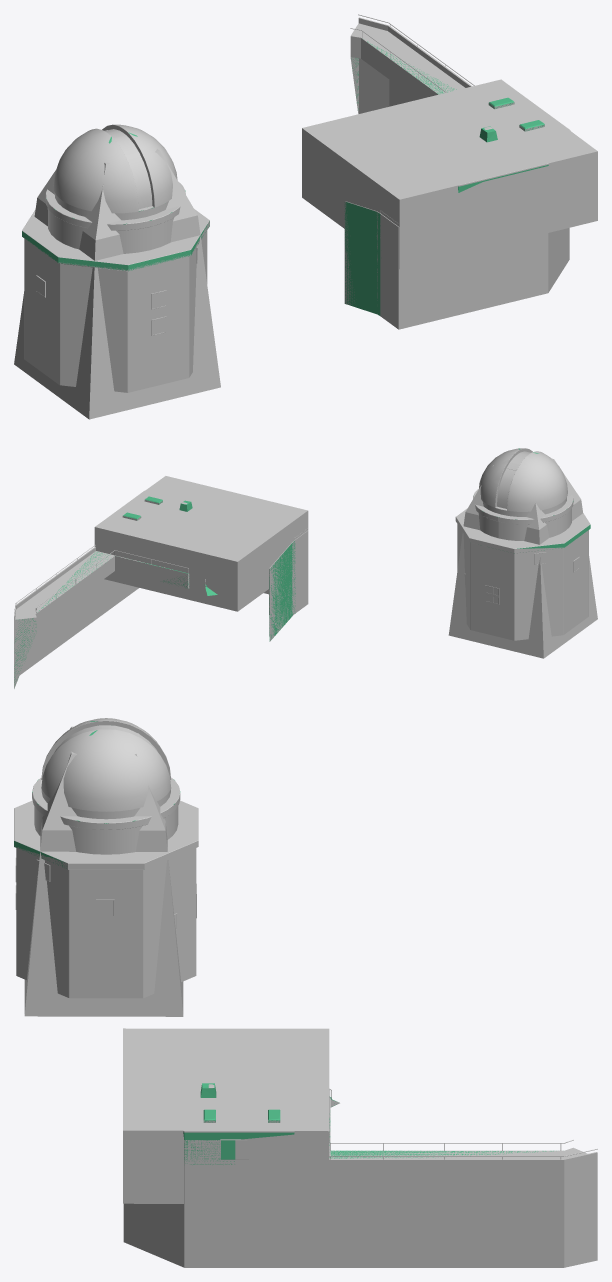
Rendered from jri_observatory_base.dae.
3 views of the same model, one above another, from view 1: azimuth 30°, elevation 25°; view 2: azimuth 150°, elevation 25°; view 3: azimuth 270°, elevation 25° (orthographic). The views are drawn at different scales.
Visible parts, largest first — view 1: ind_bld_a600, ind_bld_a30, Colmesh-1; view 2: ind_bld_a600, ind_bld_a30, Colmesh-1; view 3: ind_bld_a600, ind_bld_a30, Colmesh-1.
Part boxes in pixels (box(x1,y1,x2,y2)): ind_bld_a600: box(22, 14, 570, 392); ind_bld_a30: box(14, 79, 597, 419); Colmesh-1: box(22, 41, 548, 315); ind_bld_a600: box(14, 448, 590, 688); ind_bld_a30: box(94, 458, 597, 658); Colmesh-1: box(14, 448, 590, 684); ind_bld_a600: box(14, 718, 597, 1267); ind_bld_a30: box(24, 726, 329, 1204); Colmesh-1: box(14, 721, 553, 1164).
Bounding box in the file's own units: 56.65 × 47.94 × 27.61.
